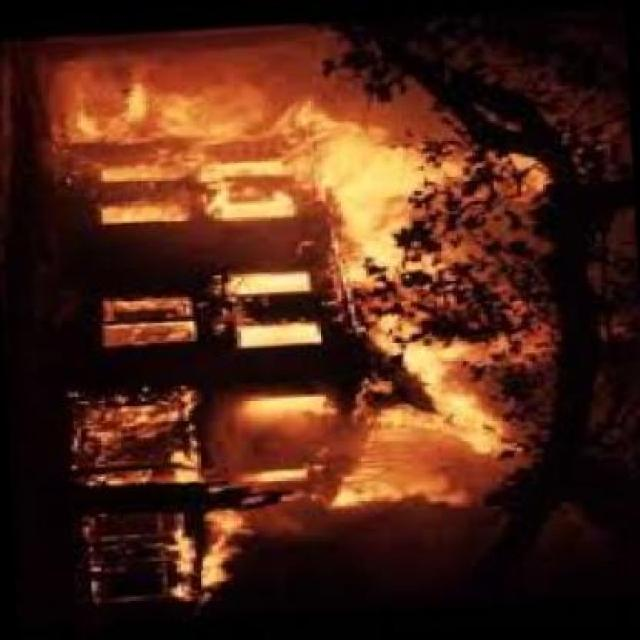Fire: (35, 27, 544, 602)
